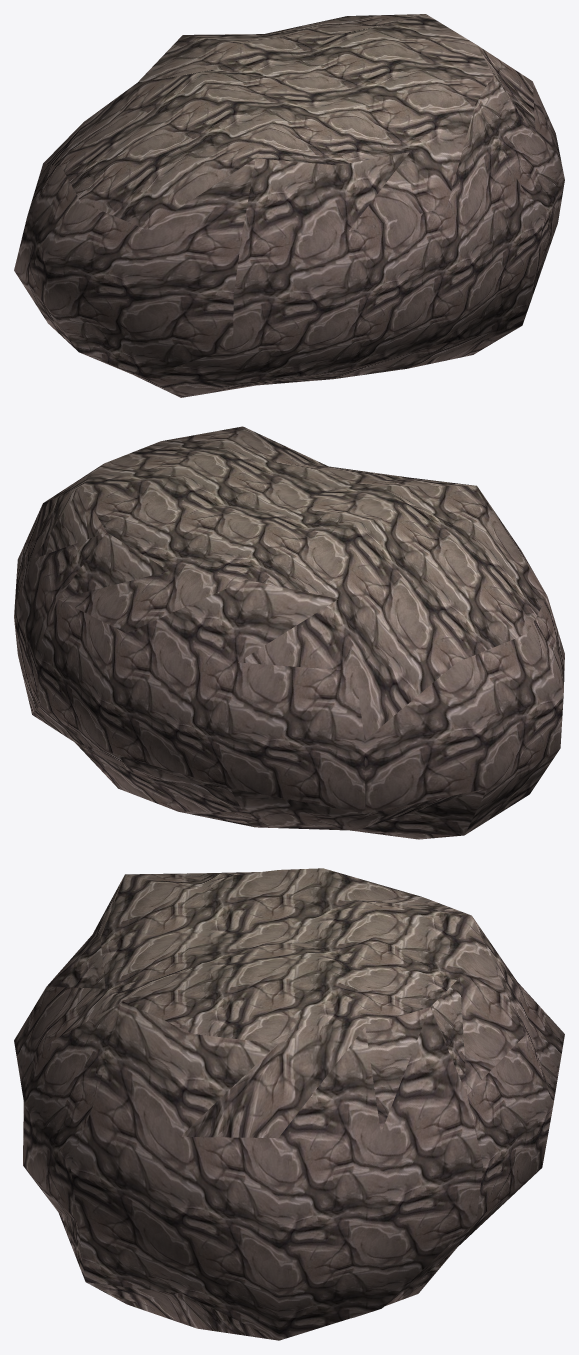
File: rock_2.glb
3 renders of one model, top to bottom at view 1: azimuth 30°, elevation 25°; view 2: azimuth 150°, elevation 25°; view 3: azimuth 270°, elevation 25°, orthographic. The views are drawn at different scales.
Visible parts, largest first — view 1: Rock; view 2: Rock; view 3: Rock.
Boxes of the visible parts, box(x1,y1,x2,y2) form: Rock: box(14, 14, 564, 397); Rock: box(14, 426, 564, 839); Rock: box(14, 868, 564, 1340).
Size of the model in its own units: 3.61 by 1.89 by 2.79.
Materials: 1 (1 with a texture image).
